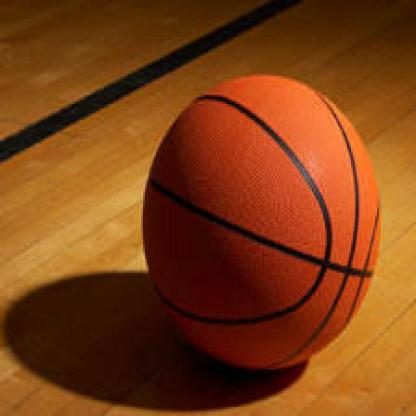basketball: (143, 76, 381, 372)
